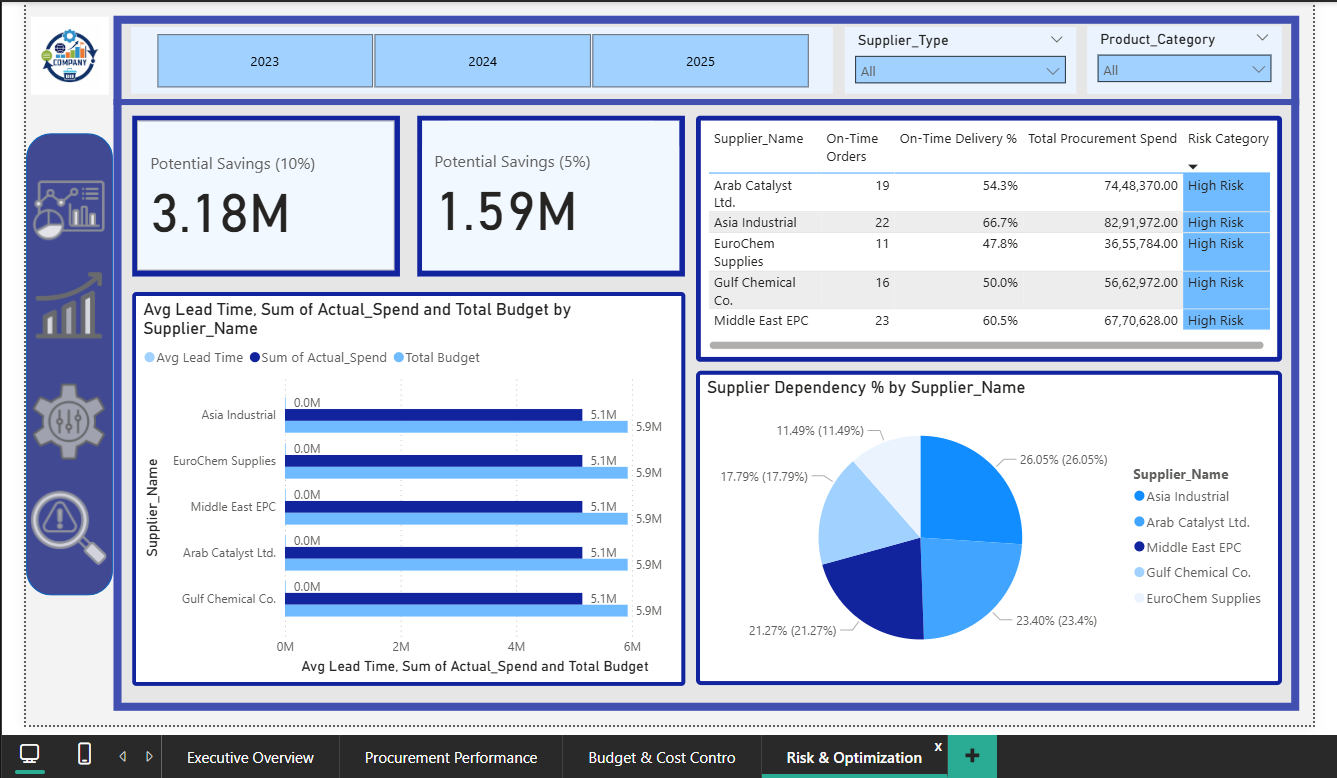

This screenshot's page, from the dashboard's own definition file:
{"tool":"powerbi","page":{"name":"Risk & Optimization","canvas":[1280,720],"ordinal":3},"visuals":[{"type":"shape","box":[0,130,86.7,460],"z":0},{"type":"shape","box":[86.7,13.3,1180,691.7],"z":1000},{"type":"shape","box":[86.7,91.7,1180,15],"z":2000},{"type":"image","box":[0,7.5,87.1,92.1],"z":3000},{"type":"actionButton","box":[0,165.9,86.6,83.7],"z":4000},{"type":"actionButton","box":[0,259.7,86.6,83.7],"z":5000},{"type":"actionButton","box":[0,375.1,86.6,83.7],"z":6000},{"type":"actionButton","box":[0,481.9,86.6,83.7],"z":7000},{"type":"cardVisual","fields":{"Data":["Table measure.Potential Savings (10%)"]},"box":[105.1,113.8,266.4,159.8],"z":8000},{"type":"cardVisual","fields":{"Data":["Table measure.Potential Savings (5%)"]},"box":[388.8,113.8,266.4,159.8],"z":9000},{"type":"tableEx","fields":{"Values":["Suppliers.Supplier_Name","Table measure.On-Time Orders","Table measure.On-Time Delivery %","Table measure.Total Procurement Spend","Table measure.Risk Category"]},"box":[666.7,113.8,583.2,244.8],"z":10000},{"type":"clusteredBarChart","fields":{"Category":["Suppliers.Supplier_Name"],"Y":["Table measure.Avg Lead Time","Sum(Procurement_Budget.Actual_Spend)","Table measure.Total Budget"]},"box":[105.1,288,550.1,391.7],"z":11000},{"type":"pieChart","fields":{"Category":["Suppliers.Supplier_Name"],"Y":["Table measure.Supplier Dependency %"]},"box":[666.7,367.2,583.2,312.5],"z":12000},{"type":"slicer","fields":{"Values":["Date.Year"]},"box":[105,25,698.3,66.7],"z":13000},{"type":"slicer","fields":{"Values":["Products.Product_Category"]},"box":[1056.7,23.3,193.3,68.3],"z":14000},{"type":"slicer","fields":{"Values":["Suppliers.Supplier_Type"]},"box":[815,25,230,66.7],"z":15000}]}

Visuals, with their boxes on the page's 1280x720 design canvas (x1, y1, x2, y2). These are canvas units, not pixel positions in the 1337x778 screenshot, which may show the page scaled, cropped or inside an application window:
shape: bbox=(0, 130, 87, 590)
shape: bbox=(87, 13, 1267, 705)
shape: bbox=(87, 92, 1267, 107)
image: bbox=(0, 8, 87, 100)
actionButton: bbox=(0, 166, 87, 250)
actionButton: bbox=(0, 260, 87, 343)
actionButton: bbox=(0, 375, 87, 459)
actionButton: bbox=(0, 482, 87, 566)
cardVisual - Table measure.Potential Savings (10%): bbox=(105, 114, 372, 274)
cardVisual - Table measure.Potential Savings (5%): bbox=(389, 114, 655, 274)
tableEx - Suppliers.Supplier_Name x Table measure.On-Time Orders: bbox=(667, 114, 1250, 359)
clusteredBarChart - Suppliers.Supplier_Name x Table measure.Avg Lead Time: bbox=(105, 288, 655, 680)
pieChart - Suppliers.Supplier_Name x Table measure.Supplier Dependency %: bbox=(667, 367, 1250, 680)
slicer - Date.Year: bbox=(105, 25, 803, 92)
slicer - Products.Product_Category: bbox=(1057, 23, 1250, 92)
slicer - Suppliers.Supplier_Type: bbox=(815, 25, 1045, 92)
